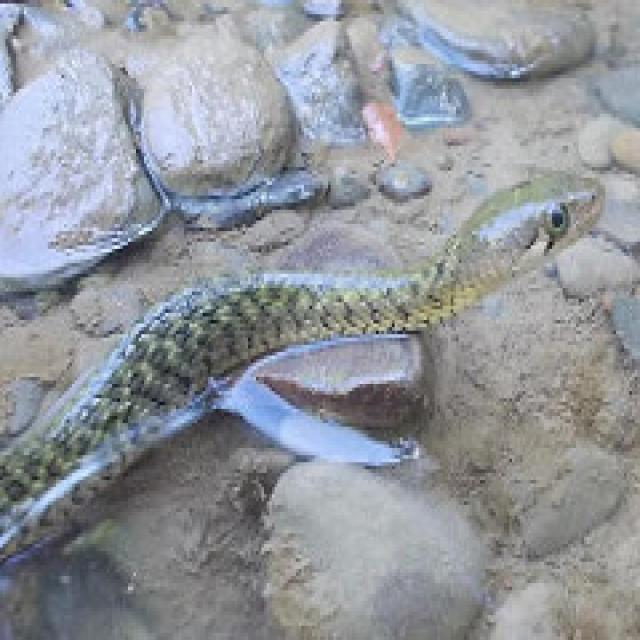Snake: (0, 163, 605, 576)
